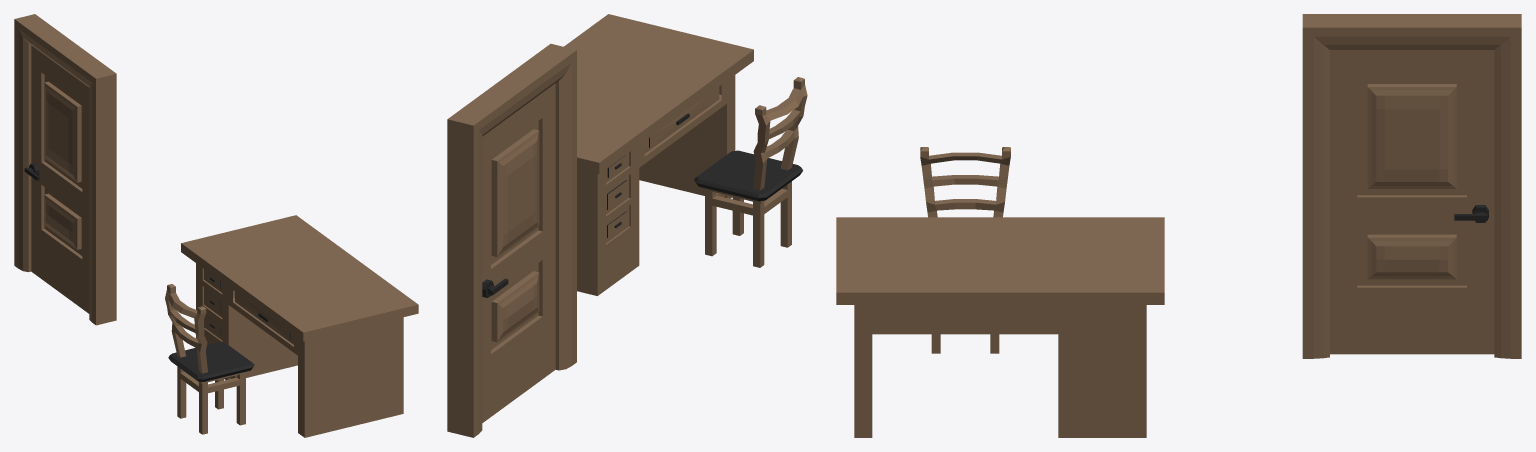
Rendered from wood_furn.fbx.
3 renders of one model, left to right at view 1: azimuth 30°, elevation 25°; view 2: azimuth 150°, elevation 25°; view 3: azimuth 270°, elevation 25°, orthographic. The views are drawn at different scales.
Visible parts, largest first — view 1: table, doorframe, innerdoor, chair, cekmece; view 2: table, doorframe, innerdoor, chair, cekmece; view 3: innerdoor, table, doorframe, chair.
Boxes of the visible parts, left/top/right/bottom form: table: left=181, top=215, right=418, bottom=437; doorframe: left=14, top=14, right=116, bottom=325; innerdoor: left=24, top=45, right=89, bottom=313; chair: left=165, top=284, right=254, bottom=434; cekmece: left=235, top=292, right=293, bottom=344; table: left=564, top=14, right=753, bottom=295; doorframe: left=447, top=43, right=576, bottom=437; innerdoor: left=482, top=83, right=555, bottom=422; chair: left=694, top=77, right=807, bottom=267; cekmece: left=644, top=87, right=719, bottom=153; innerdoor: left=1330, top=50, right=1494, bottom=354; table: left=836, top=217, right=1164, bottom=437; doorframe: left=1302, top=14, right=1521, bottom=358; chair: left=920, top=147, right=1010, bottom=353.
Bounding box in the file's own units: 822 × 1000 × 1872.
